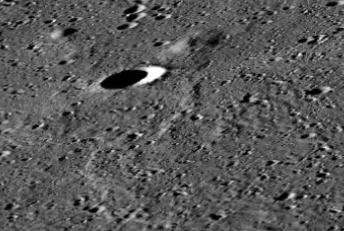crater: (55, 44, 225, 135)
